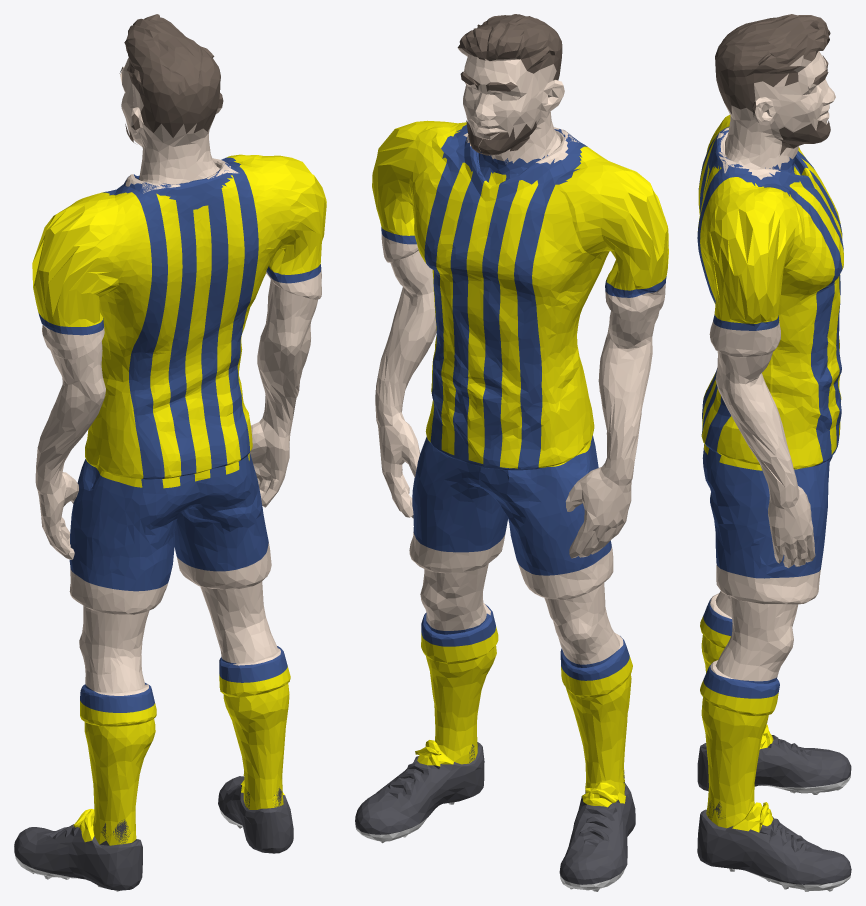
The model's file is FK_Oyuncu_onizleme.glb.
The picture shows the model from 3 angles, left to right: view 1: azimuth 30°, elevation 25°; view 2: azimuth 150°, elevation 25°; view 3: azimuth 270°, elevation 25°; orthographic projection.
Visible parts, largest first — view 1: UpperTorso__Shirt, UpperTorso__Stripe, UpperTorso__Sleeve, LeftUpperLeg__Shorts, LowerTorso__Shirt, Head__Hair, LowerTorso__Stripe, RightUpperLeg__Shorts, LeftFoot__Boot, LeftUpperArm__Sleeve, LeftUpperLeg__Skin, Head__Skin (+22 smaller); view 2: UpperTorso__Shirt, UpperTorso__Stripe, UpperTorso__Sleeve, LowerTorso__Shirt, Head__Skin, LeftUpperLeg__Shorts, RightUpperLeg__Shorts, RightFoot__Boot, LowerTorso__Stripe, LeftFoot__Boot, LeftUpperArm__Sleeve, LeftUpperLeg__Skin (+23 smaller); view 3: UpperTorso__Shirt, RightUpperLeg__Shorts, Head__Hair, RightFoot__Boot, UpperTorso__Sleeve, Head__Skin, LowerTorso__Shirt, RightUpperArm__Sleeve, RightUpperLeg__Skin, UpperTorso__Stripe, RightLowerLeg__SockTop, RightUpperArm__Skin (+19 smaller).
Part boxes in pixels (x1,y1,x2,y2): UpperTorso__Shirt: (99, 155, 271, 394); UpperTorso__Stripe: (129, 167, 258, 392); UpperTorso__Sleeve: (46, 154, 318, 314); LeftUpperLeg__Shorts: (70, 469, 207, 581); LowerTorso__Shirt: (85, 361, 252, 488); Head__Hair: (124, 14, 223, 137); LowerTorso__Stripe: (130, 365, 250, 488); RightUpperLeg__Shorts: (174, 454, 267, 562); LeftFoot__Boot: (14, 824, 142, 890); LeftUpperArm__Sleeve: (32, 214, 102, 326); LeftUpperLeg__Skin: (69, 568, 167, 659); Head__Skin: (120, 58, 238, 193); UpperTorso__Shirt: (416, 122, 603, 388); UpperTorso__Stripe: (424, 139, 587, 387); UpperTorso__Sleeve: (378, 120, 656, 293); LowerTorso__Shirt: (425, 352, 594, 468); Head__Skin: (458, 48, 578, 163); LeftUpperLeg__Shorts: (479, 446, 598, 566); RightUpperLeg__Shorts: (412, 439, 507, 544); RightFoot__Boot: (355, 742, 484, 834); LowerTorso__Stripe: (430, 353, 542, 468); LeftFoot__Boot: (559, 772, 635, 884); LeftUpperArm__Sleeve: (601, 186, 668, 290); LeftUpperLeg__Skin: (517, 546, 613, 637); UpperTorso__Shirt: (697, 125, 843, 384); RightUpperLeg__Shorts: (703, 458, 830, 569); Head__Hair: (715, 14, 830, 116); RightFoot__Boot: (697, 807, 851, 884); UpperTorso__Sleeve: (704, 114, 820, 299); Head__Skin: (717, 51, 835, 173); LowerTorso__Shirt: (701, 361, 841, 470); RightUpperArm__Sleeve: (708, 208, 785, 323); RightUpperLeg__Skin: (716, 563, 820, 654); UpperTorso__Stripe: (697, 126, 843, 375); RightLowerLeg__SockTop: (700, 680, 778, 764); RightUpperArm__Skin: (709, 320, 780, 412).
Bounding box in the file's own units: 1.93 × 5.3 × 0.9056.
